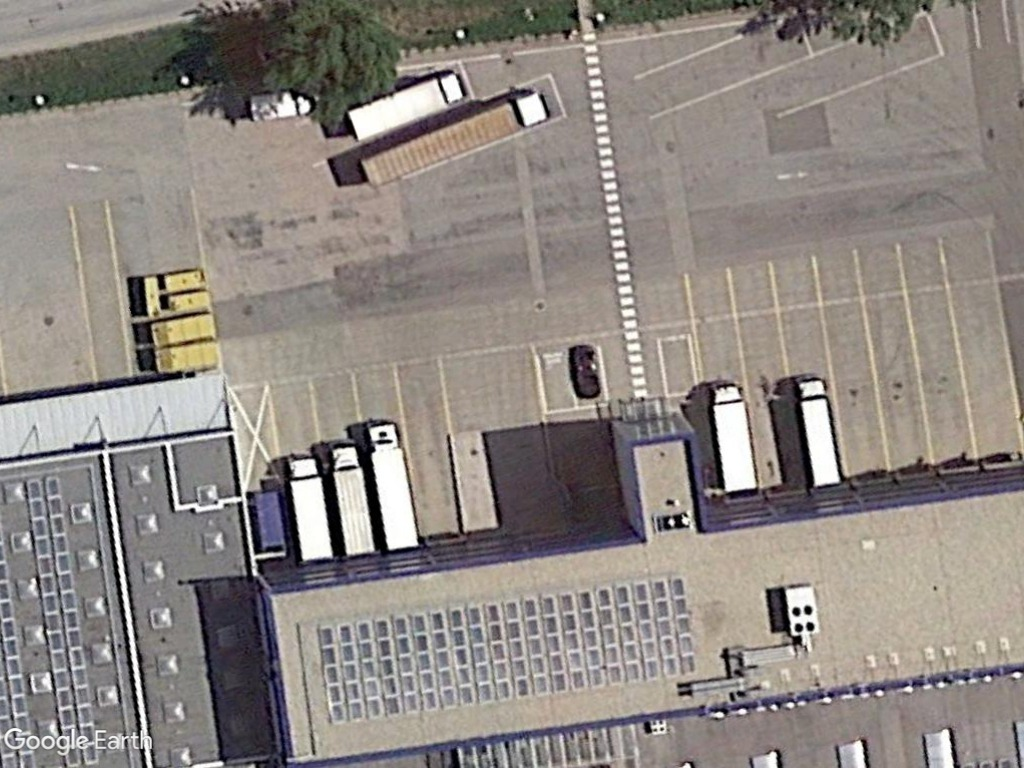longvehicle: (356, 88, 550, 190)
truck: (345, 65, 467, 142), (367, 418, 421, 555), (705, 380, 762, 499), (326, 441, 380, 561), (283, 451, 338, 566), (793, 375, 844, 490)
